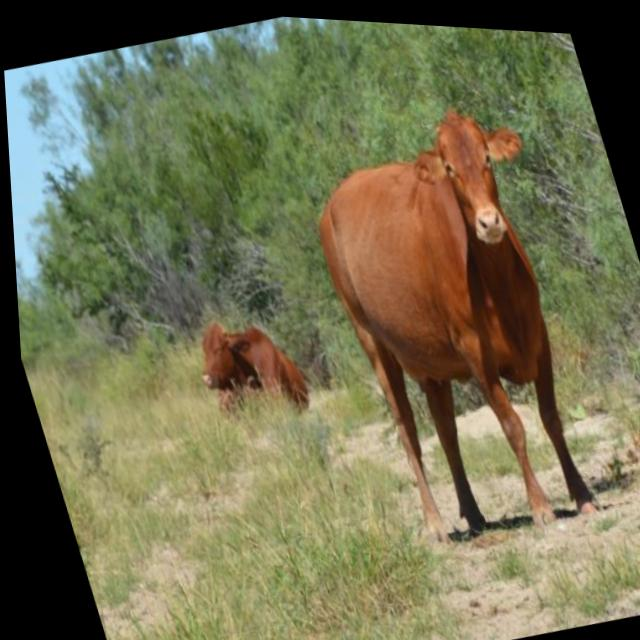cowFace: (395, 87, 555, 266), (178, 307, 262, 403)
